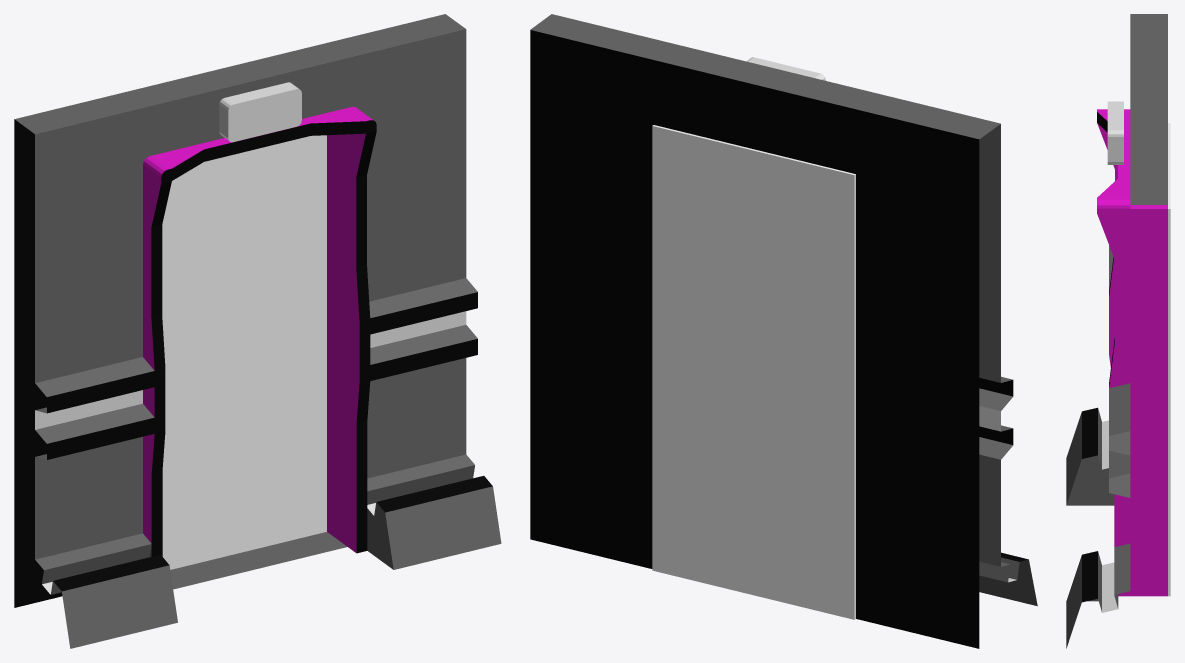
The model's file is Exit Door.fbx.
The picture shows the model from 3 angles, left to right: view 1: azimuth 30°, elevation 25°; view 2: azimuth 150°, elevation 25°; view 3: azimuth 270°, elevation 25°; orthographic projection. The views are drawn at different scales.
Parts seen in each view (by area): view 1: Wall_SOS, Dor_Test_SOS.001, EXIT.001; view 2: Wall_SOS, Dor_Test_SOS.001; view 3: Wall_SOS, Dor_Test_SOS.001, EXIT.001.
Part boxes in pixels (x1,y1,x2,y2): Wall_SOS: [14, 14, 501, 648]; Dor_Test_SOS.001: [162, 135, 326, 569]; EXIT.001: [219, 82, 301, 142]; Wall_SOS: [530, 14, 1037, 648]; Dor_Test_SOS.001: [652, 125, 855, 619]; Wall_SOS: [1066, 14, 1167, 648]; Dor_Test_SOS.001: [1168, 123, 1170, 596]; EXIT.001: [1107, 101, 1123, 164].
Size of the model in its own units: 240 by 260 by 55.25.
